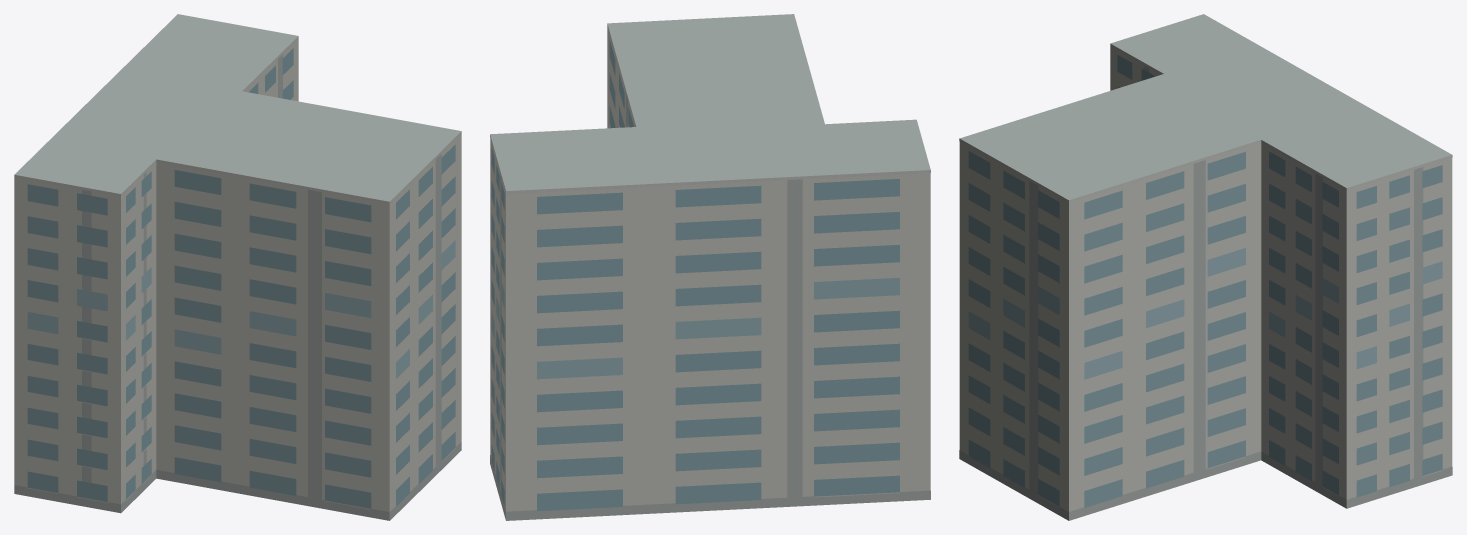
The model's file is residential-f1a00568-ca81-4f8f-a6ce-47be6bdfc609.glb.
3 renders of one model, left to right at view 1: azimuth 30°, elevation 25°; view 2: azimuth 150°, elevation 25°; view 3: azimuth 270°, elevation 25°, orthographic. The views are drawn at different scales.
Visible parts, largest first — view 1: residential-f1a00568-ca81-4f8f-a6ce-47be6bdfc609.tmp; view 2: residential-f1a00568-ca81-4f8f-a6ce-47be6bdfc609.tmp; view 3: residential-f1a00568-ca81-4f8f-a6ce-47be6bdfc609.tmp.
Boxes of the visible parts, x1,y1,x2,y2 form: residential-f1a00568-ca81-4f8f-a6ce-47be6bdfc609.tmp: (14,14,461,520); residential-f1a00568-ca81-4f8f-a6ce-47be6bdfc609.tmp: (490,14,930,520); residential-f1a00568-ca81-4f8f-a6ce-47be6bdfc609.tmp: (959,14,1452,520).
Size of the model in its own units: 34.91 by 28 by 39.03.
